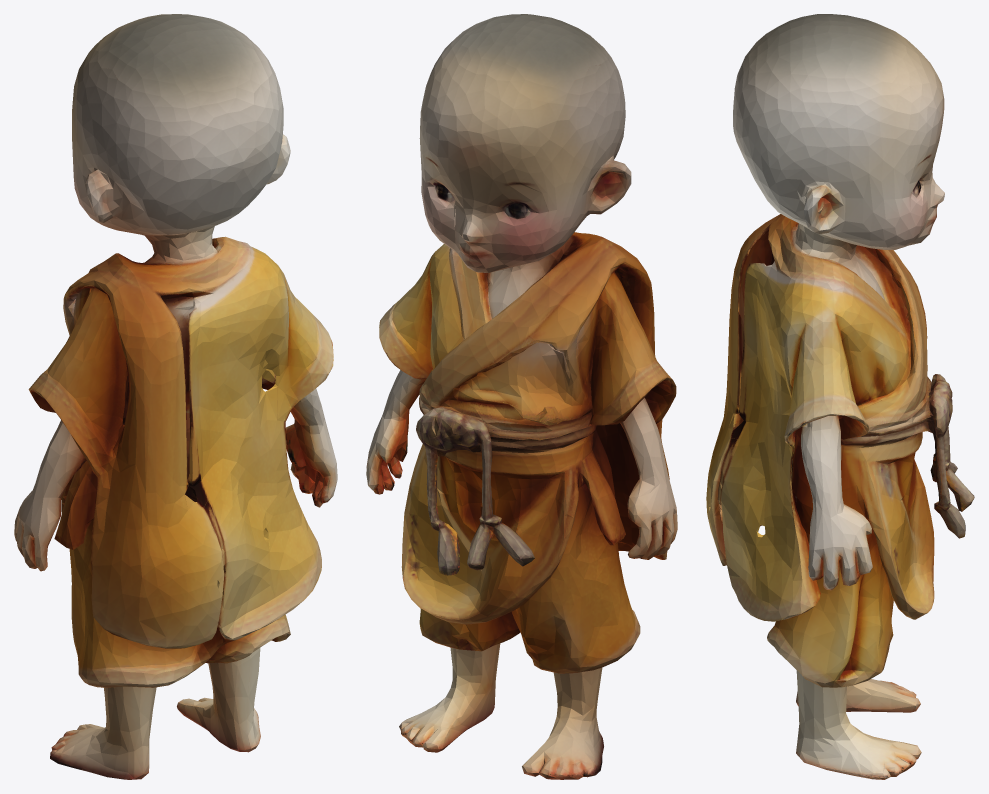
Rendered from avatar.glb.
3 renders of one model, left to right at view 1: azimuth 30°, elevation 25°; view 2: azimuth 150°, elevation 25°; view 3: azimuth 270°, elevation 25°, orthographic. The views are drawn at different scales.
Parts seen in each view (by area): view 1: world; view 2: world; view 3: world.
Boxes of the visible parts, x1=… form: world: x1=14, y1=14, x2=337, y2=779; world: x1=366, y1=14, x2=677, y2=779; world: x1=706, y1=14, x2=974, y2=779.
Size of the model in its own units: 0.4424 by 0.9984 by 0.3422.
Materials: 1 (1 with a texture image).
